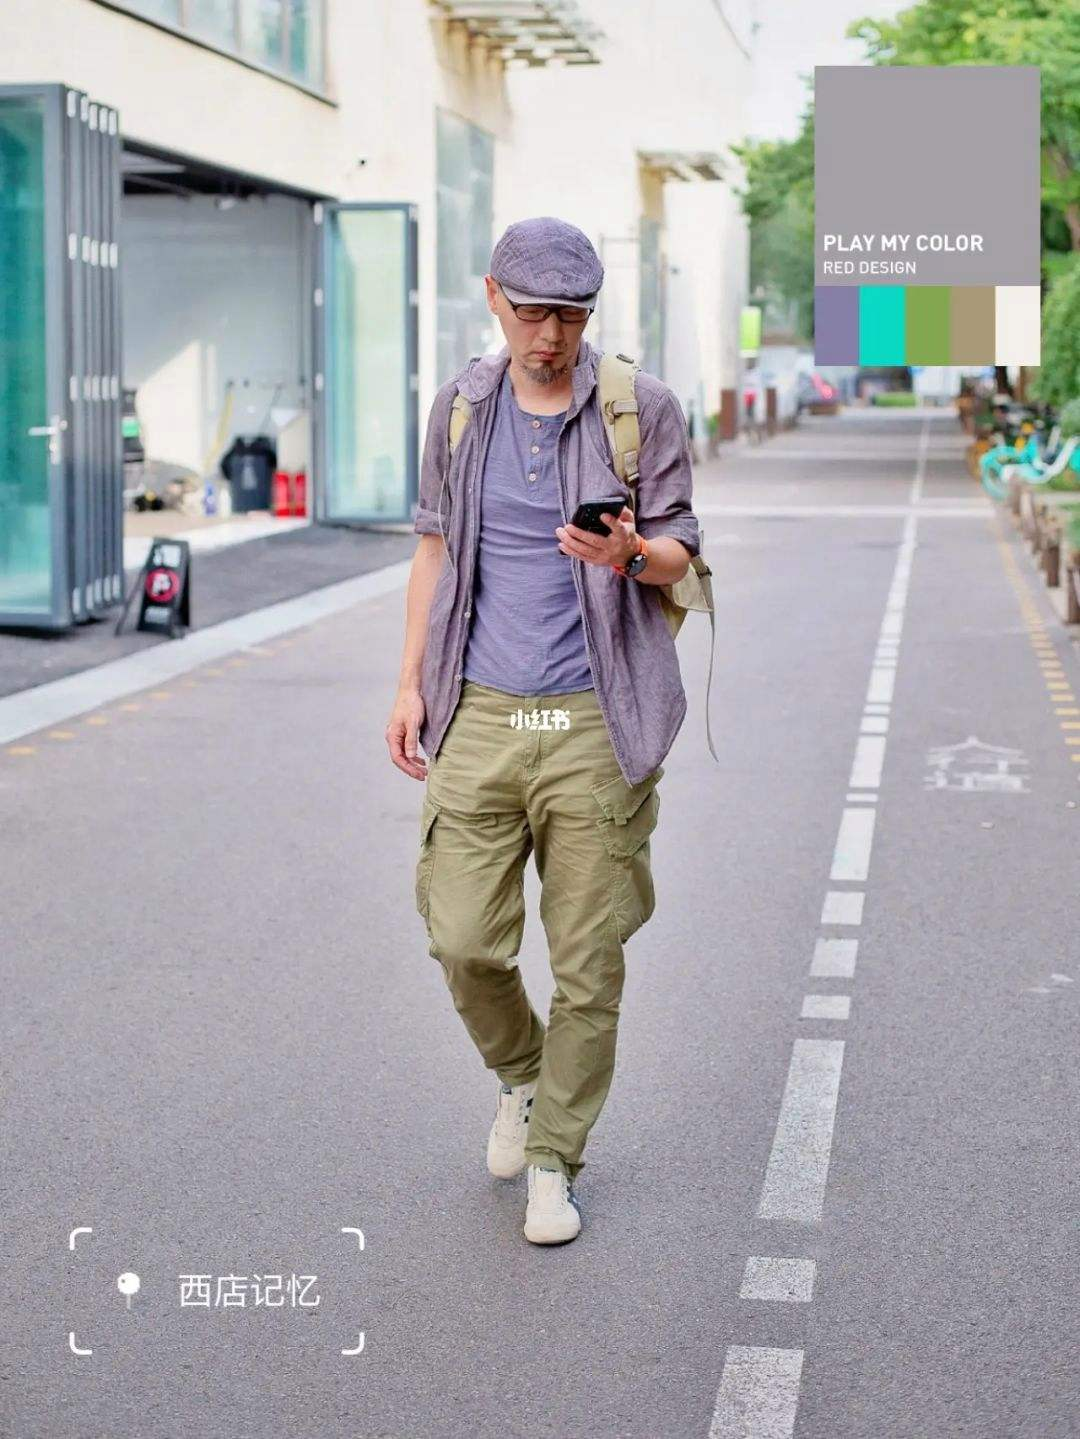reading: (550, 482, 641, 577)
